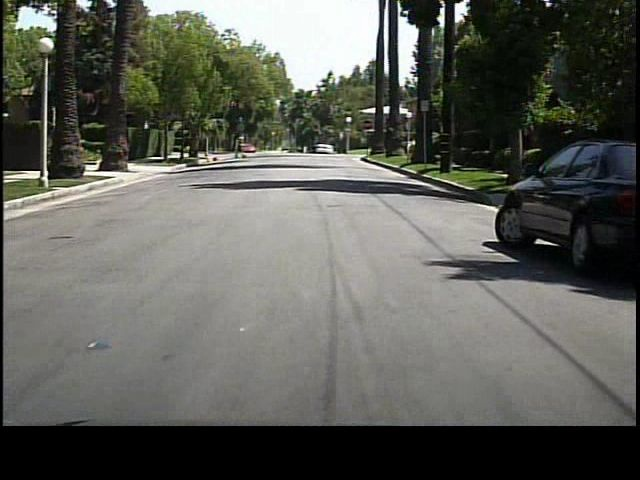person: (233, 131, 249, 162)
